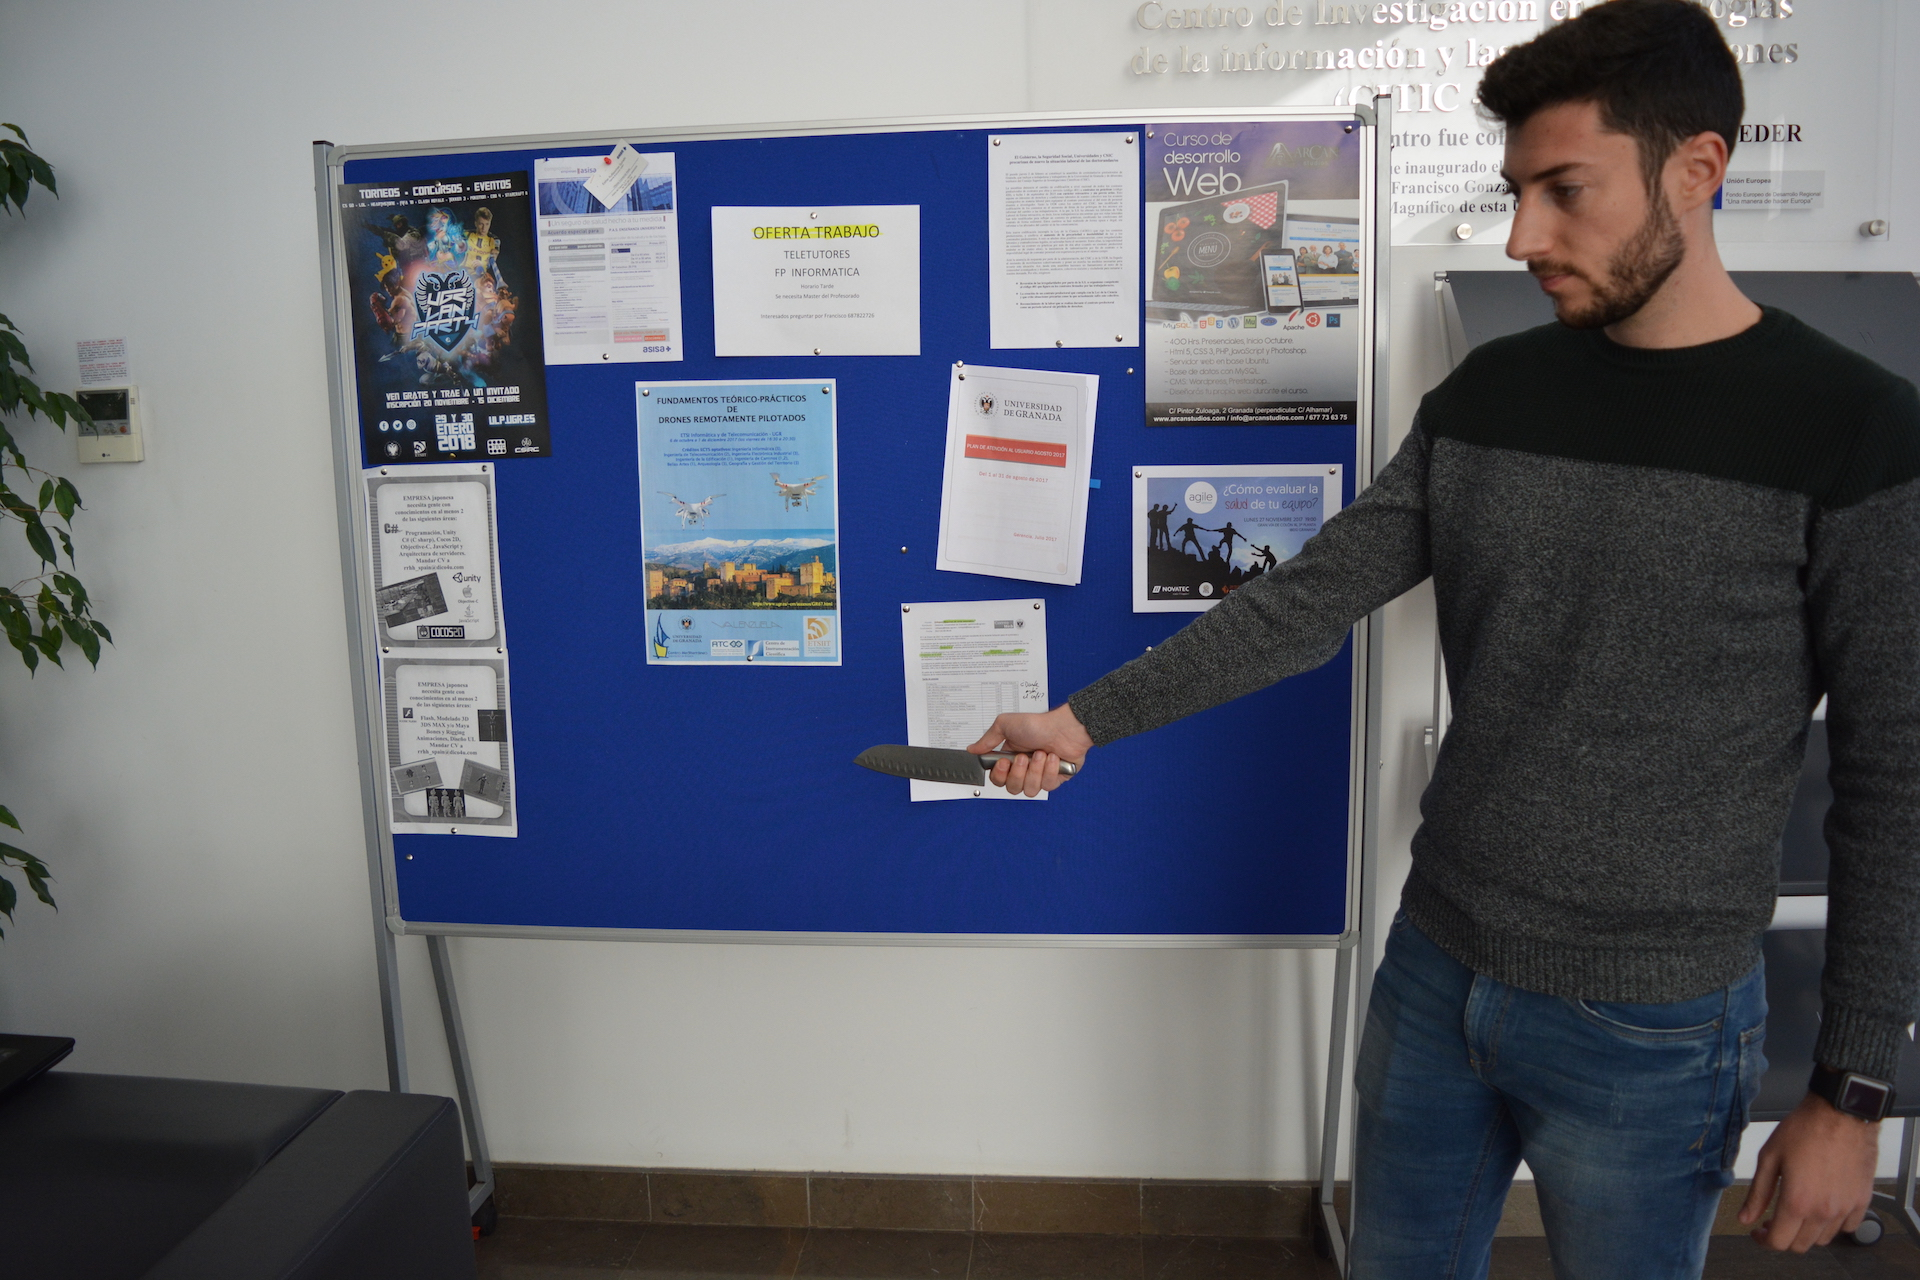knife: (849, 739, 1081, 800)
